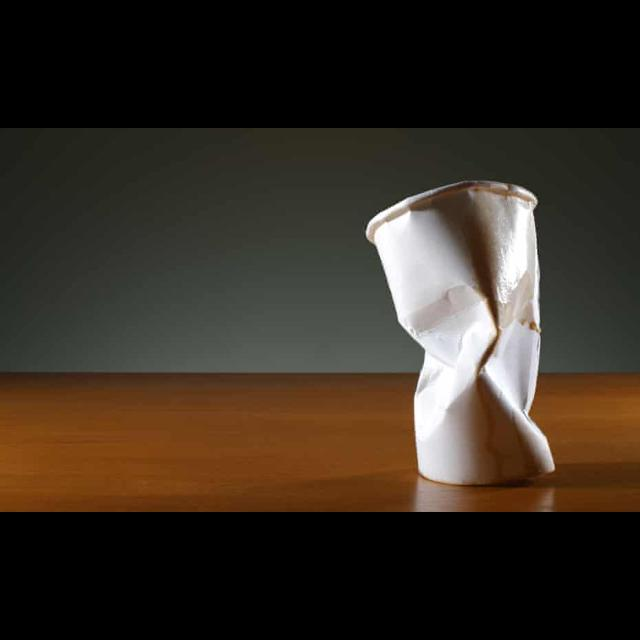trash: (365, 178, 557, 487)
